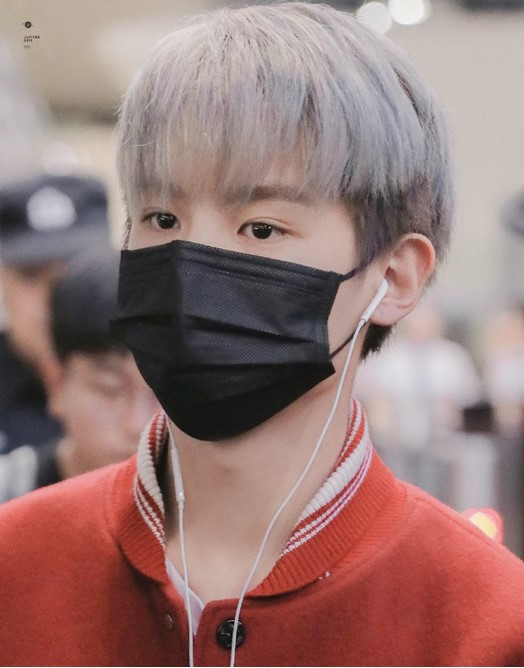face_with_mask: (112, 4, 455, 441)
